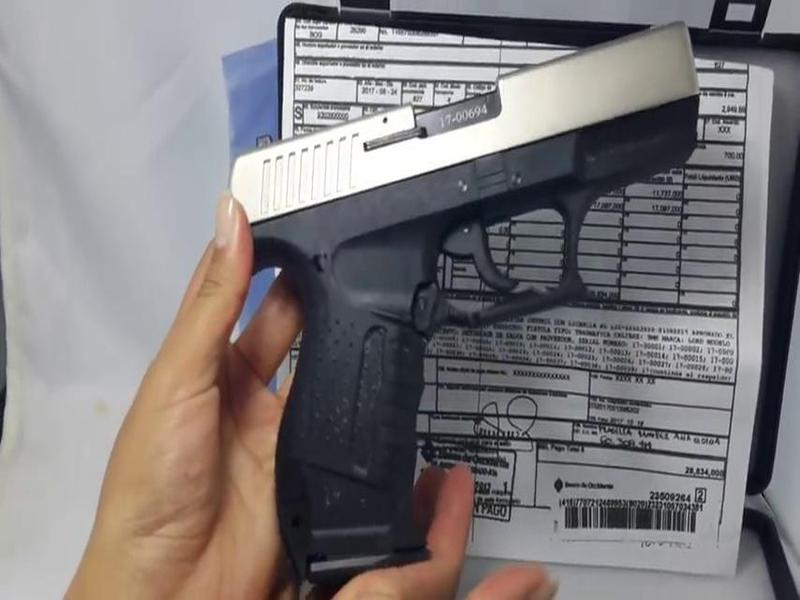Pistola: (192, 15, 714, 600)
